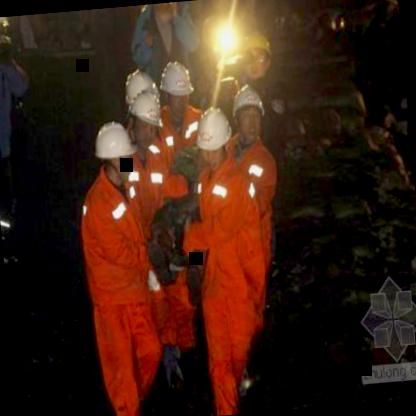helmet: (92, 119, 138, 187), (228, 83, 270, 150), (194, 104, 239, 164), (126, 92, 168, 152), (237, 28, 280, 84), (156, 58, 196, 118), (124, 66, 160, 119)
